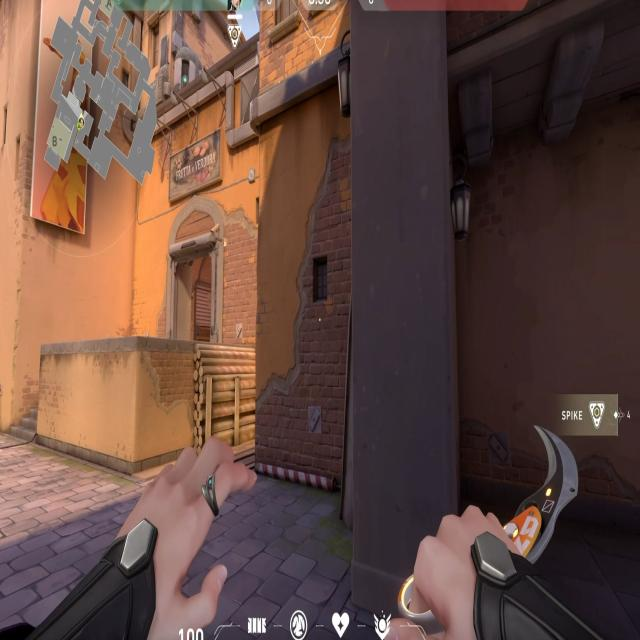B_Cubby: (133, 320, 260, 462)
